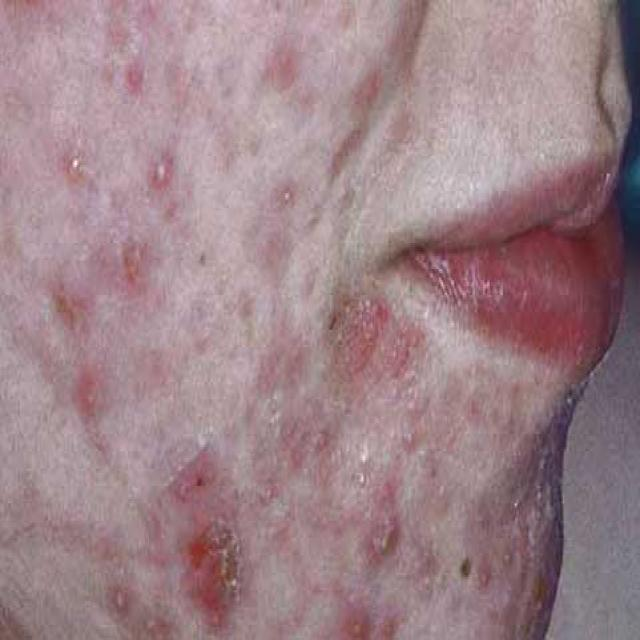Acne: (5, 0, 565, 640)
